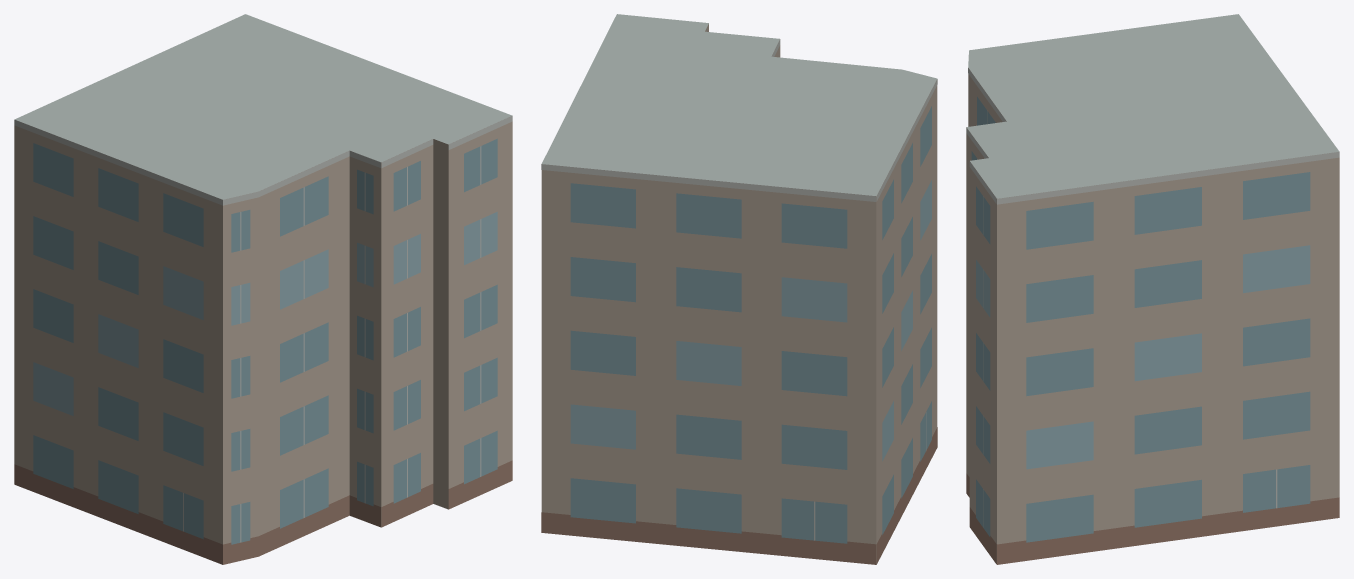
Rendered from survey-upis-32629800.glb.
The picture shows the model from 3 angles, left to right: view 1: azimuth 30°, elevation 25°; view 2: azimuth 150°, elevation 25°; view 3: azimuth 270°, elevation 25°; orthographic projection.
Parts seen in each view (by area): view 1: survey-upis-32629800.tmp; view 2: survey-upis-32629800.tmp; view 3: survey-upis-32629800.tmp.
Boxes of the visible parts, <box> form: survey-upis-32629800.tmp: <box>14,14,512,564</box>; survey-upis-32629800.tmp: <box>541,14,937,564</box>; survey-upis-32629800.tmp: <box>966,14,1339,564</box>.
Size of the model in its own units: 16.52 by 15.25 by 14.1.
